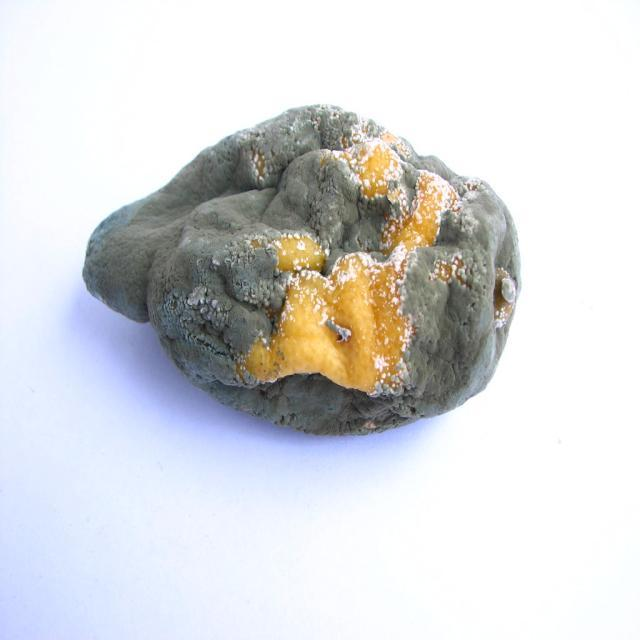Rotten: (84, 102, 524, 437)
